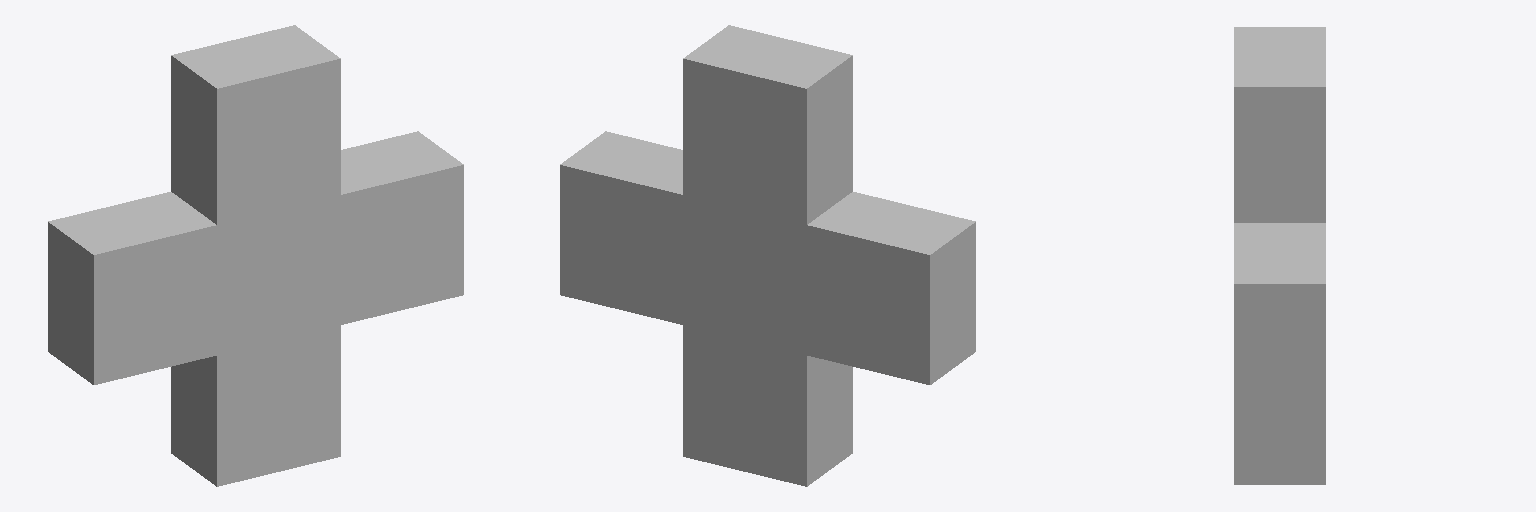
Rendered from heathpickup.obj.
3 renders of one model, left to right at view 1: azimuth 30°, elevation 25°; view 2: azimuth 150°, elevation 25°; view 3: azimuth 270°, elevation 25°, orthographic.
Visible parts, largest first — view 1: RoadKillOut; view 2: RoadKillOut; view 3: RoadKillOut.
Part boxes in pixels (bbox=[...]): RoadKillOut: bbox=[48, 25, 463, 486]; RoadKillOut: bbox=[560, 25, 975, 486]; RoadKillOut: bbox=[1234, 27, 1325, 484].
Bounding box in the file's own units: 1.68 × 1.72 × 0.3601.